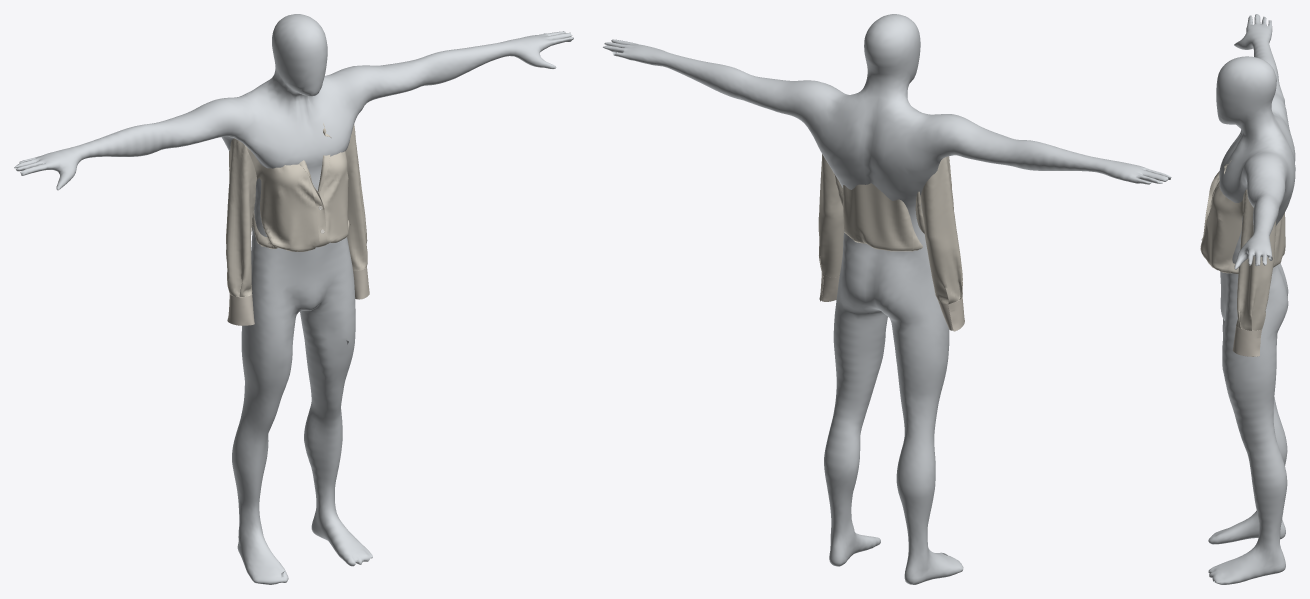
File: fit.glb
The picture shows the model from 3 angles, left to right: view 1: azimuth 30°, elevation 25°; view 2: azimuth 150°, elevation 25°; view 3: azimuth 270°, elevation 25°; orthographic projection. The views are drawn at different scales.
Parts seen in each view (by area): view 1: AtelierX_mannequin_180cm, Object_8, Object_4, Object_7, Object_9; view 2: AtelierX_mannequin_180cm, Object_10, Object_4, Object_7; view 3: AtelierX_mannequin_180cm, Object_7, Object_9, Object_10, Object_6.
Part boxes in pixels (x1=…): AtelierX_mannequin_180cm: x1=14, y1=14, x2=573, y2=584; Object_8: x1=244, y1=145, x2=319, y2=251; Object_4: x1=226, y1=133, x2=331, y2=296; Object_7: x1=227, y1=124, x2=369, y2=325; Object_9: x1=323, y1=151, x2=350, y2=244; AtelierX_mannequin_180cm: x1=603, y1=14, x2=1171, y2=584; Object_10: x1=833, y1=172, x2=924, y2=251; Object_4: x1=920, y1=156, x2=962, y2=304; Object_7: x1=818, y1=154, x2=964, y2=331; AtelierX_mannequin_180cm: x1=1208, y1=14, x2=1295, y2=584; Object_7: x1=1232, y1=189, x2=1276, y2=356; Object_9: x1=1201, y1=186, x2=1245, y2=273; Object_10: x1=1273, y1=213, x2=1285, y2=267; Object_6: x1=1200, y1=160, x2=1231, y2=251.
Bounding box in the file's own units: 1.93 × 1.8 × 0.3095.
Materials: 3 (1 with a texture image).
